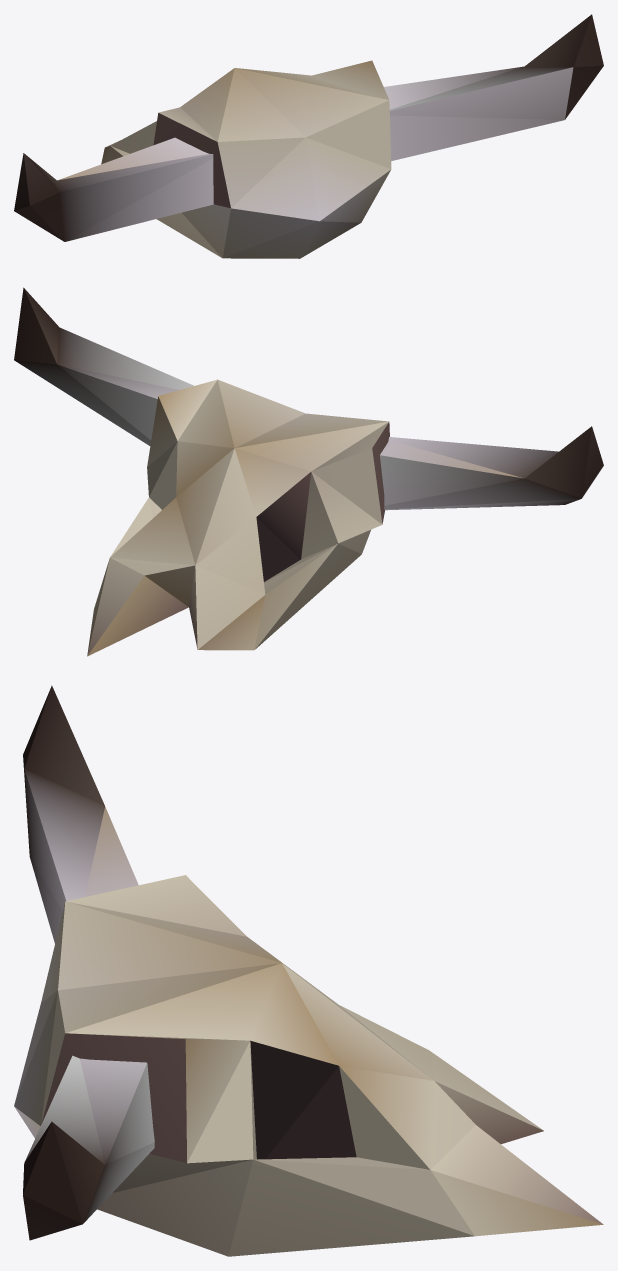
File: bone.fbx
3 views of the same model, one above another, from view 1: azimuth 30°, elevation 25°; view 2: azimuth 150°, elevation 25°; view 3: azimuth 270°, elevation 25° (orthographic). The views are drawn at different scales.
Visible parts, largest first — view 1: Bone_02.001; view 2: Bone_02.001; view 3: Bone_02.001.
Part boxes in pixels (x1,y1,x2,y2): Bone_02.001: [14, 14, 603, 258]; Bone_02.001: [14, 287, 603, 656]; Bone_02.001: [14, 685, 603, 1256].
Bounding box in the file's own units: 315 × 99.23 × 178.
